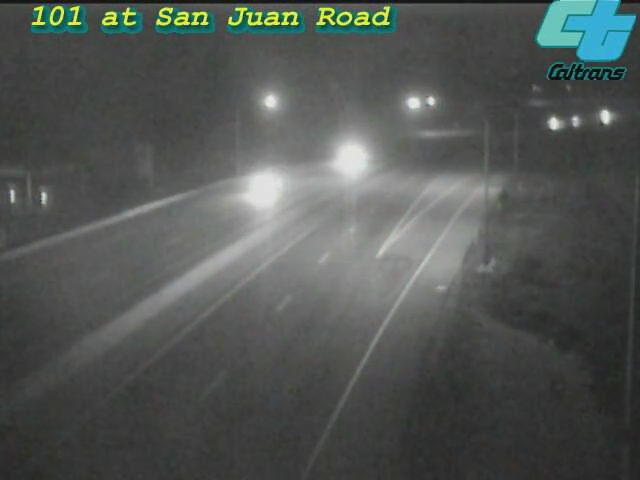vehicle: (224, 146, 304, 226), (306, 118, 386, 198), (578, 94, 628, 144), (551, 97, 601, 147), (527, 99, 577, 149)
